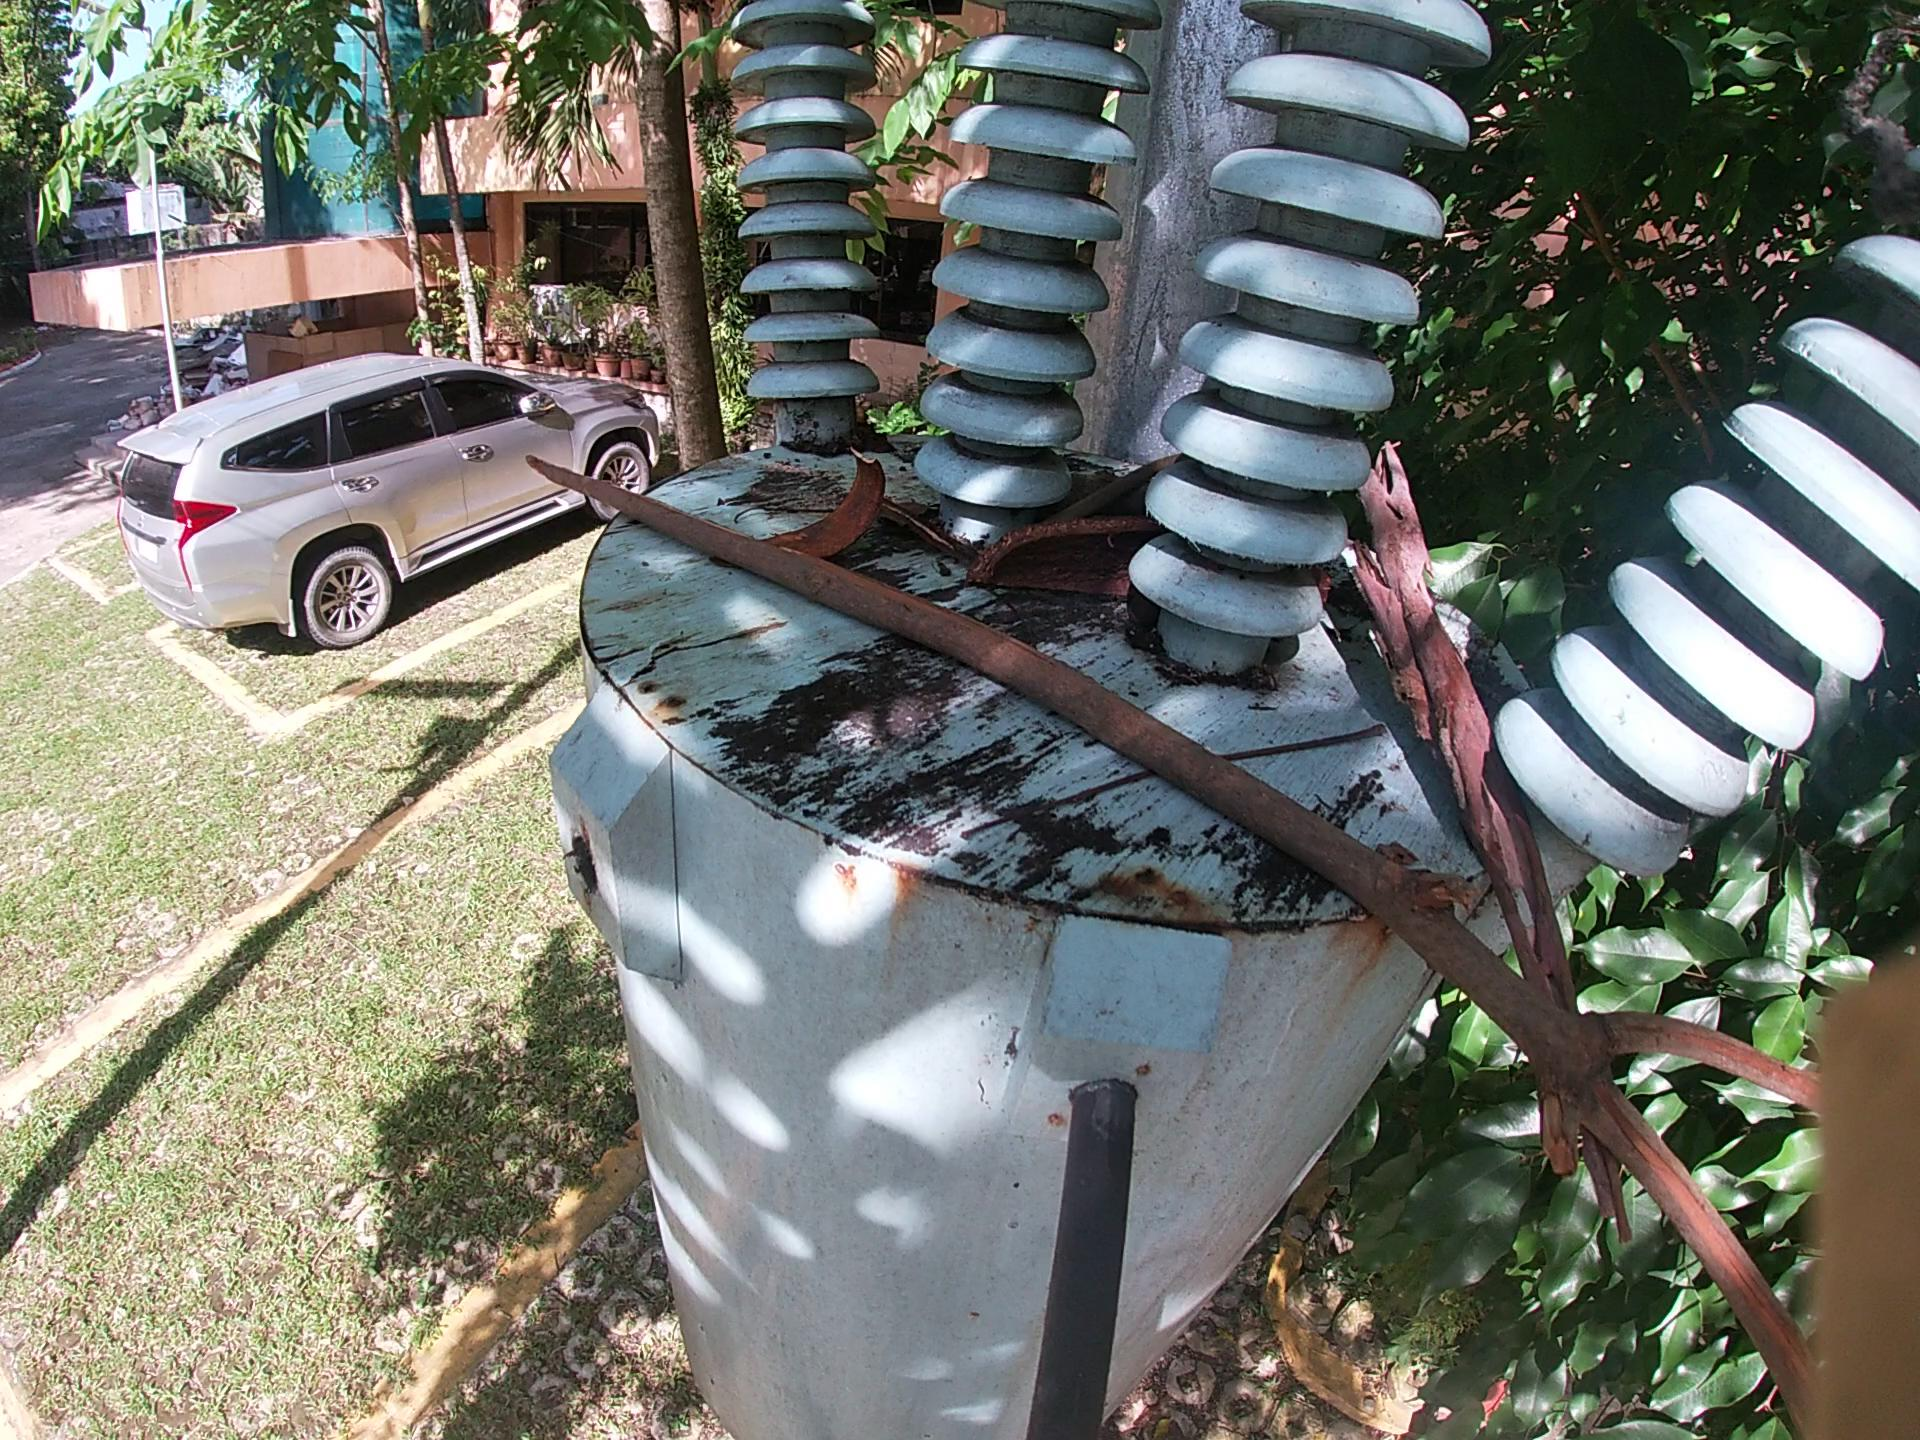mahogany fruit: (937, 513, 1169, 614), (770, 440, 892, 546)
tree branch: (519, 455, 1841, 1422), (1352, 434, 1655, 1258), (940, 722, 1411, 843), (1031, 442, 1178, 525), (886, 490, 960, 563), (1052, 470, 1170, 516), (741, 496, 830, 517)
